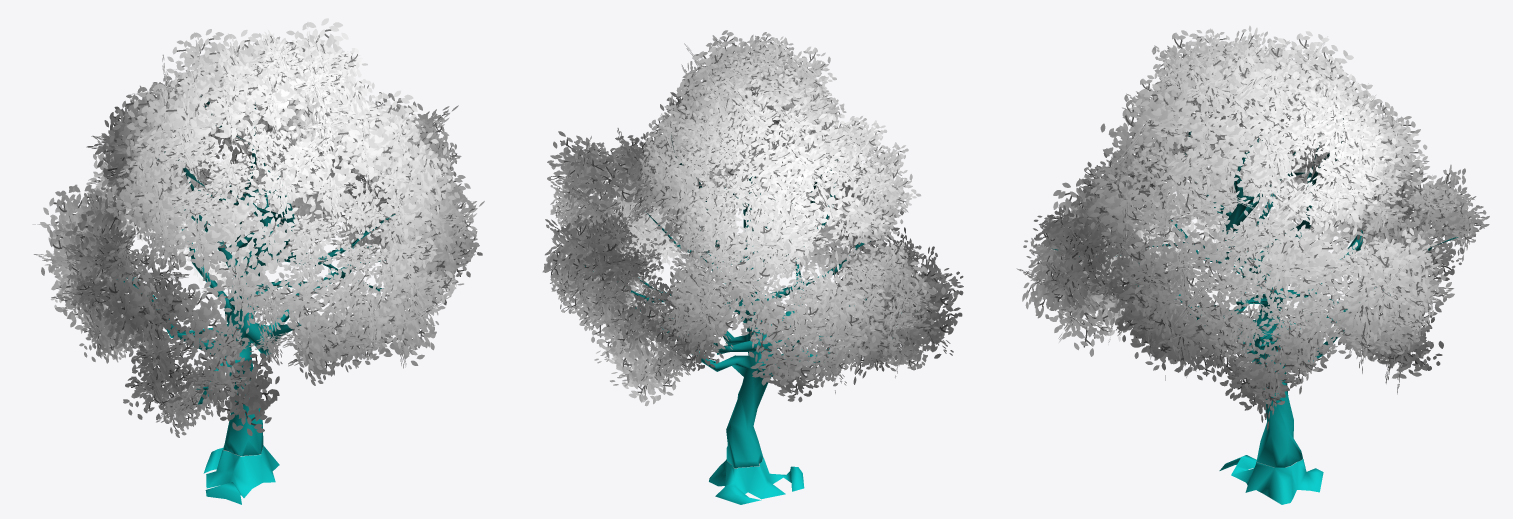
The model's file is HuralyaOak1Separated_V02.fbx.
3 renders of one model, left to right at view 1: azimuth 30°, elevation 25°; view 2: azimuth 150°, elevation 25°; view 3: azimuth 270°, elevation 25°, orthographic. The views are drawn at different scales.
Parts seen in each view (by area): view 1: BarkAndLeaves, Stomp; view 2: BarkAndLeaves, Stomp; view 3: BarkAndLeaves, Stomp.
Boxes of the visible parts, x1=… form: BarkAndLeaves: x1=32, y1=18, x2=484, y2=455; Stomp: x1=203, y1=445, x2=279, y2=504; BarkAndLeaves: x1=542, y1=30, x2=963, y2=468; Stomp: x1=709, y1=457, x2=804, y2=504; BarkAndLeaves: x1=1016, y1=25, x2=1489, y2=467; Stomp: x1=1219, y1=455, x2=1323, y2=504.
Size of the model in its own units: 821 by 892 by 856.
